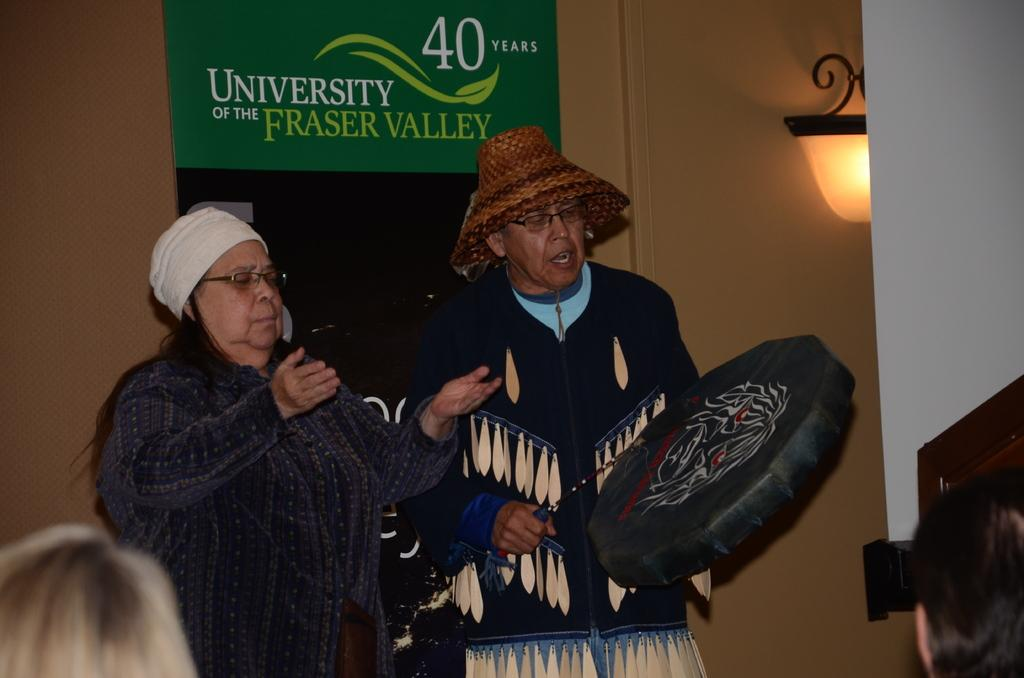Hat: (450, 127, 631, 272)
